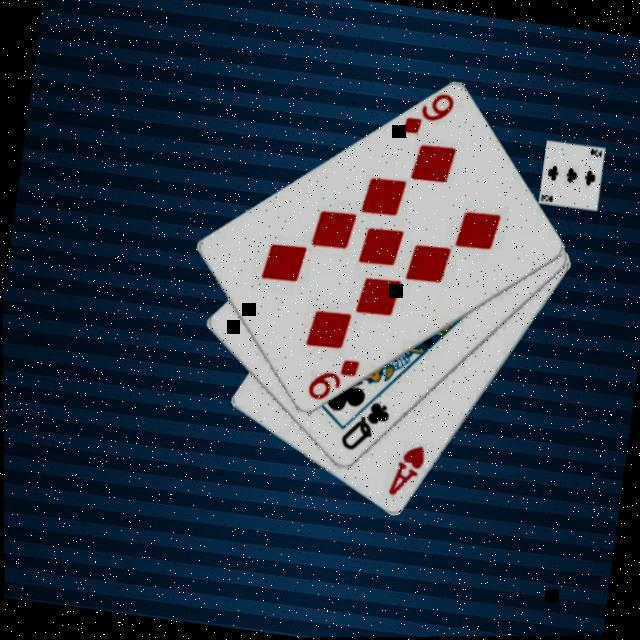9D: (303, 351, 363, 408), (399, 86, 459, 142)
AH: (386, 438, 430, 504)
QC: (336, 394, 395, 458)
